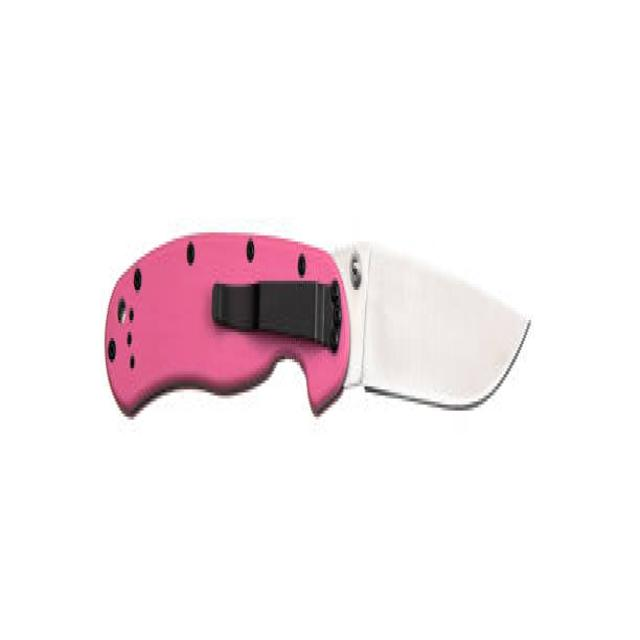knife: (105, 223, 533, 429)
